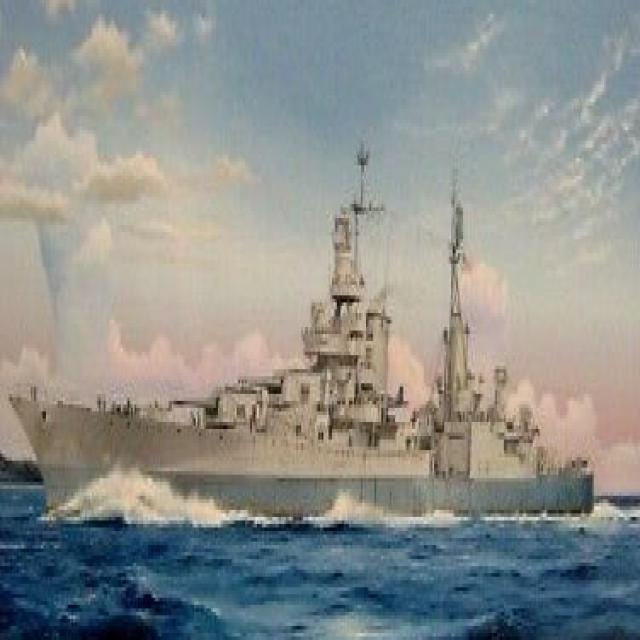navalvessels: (11, 137, 605, 558)
